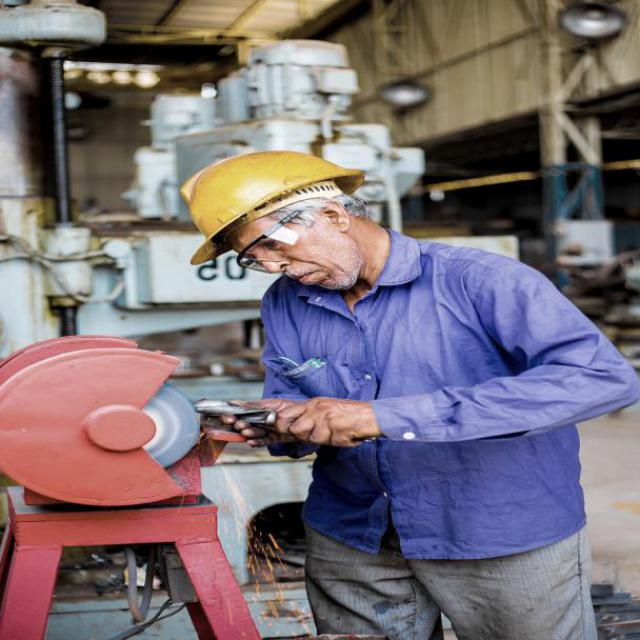helmet: (176, 139, 391, 292)
